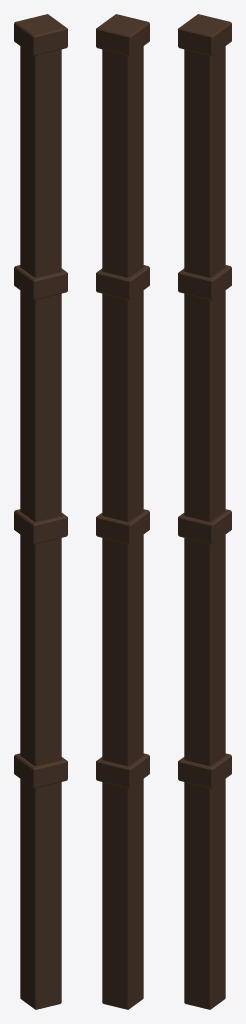
File: corner_timber_h48.fbx
3 renders of one model, left to right at view 1: azimuth 30°, elevation 25°; view 2: azimuth 150°, elevation 25°; view 3: azimuth 330°, elevation 25°, orthographic.
Parts seen in each view (by area): view 1: corner_timber_h48; view 2: corner_timber_h48; view 3: corner_timber_h48.
Boxes of the visible parts, x1,y1,x2,y2 form: corner_timber_h48: (14, 14, 67, 1009); corner_timber_h48: (96, 14, 149, 1009); corner_timber_h48: (178, 14, 231, 1009).
Size of the model in its own units: 180 by 4800 by 180.
